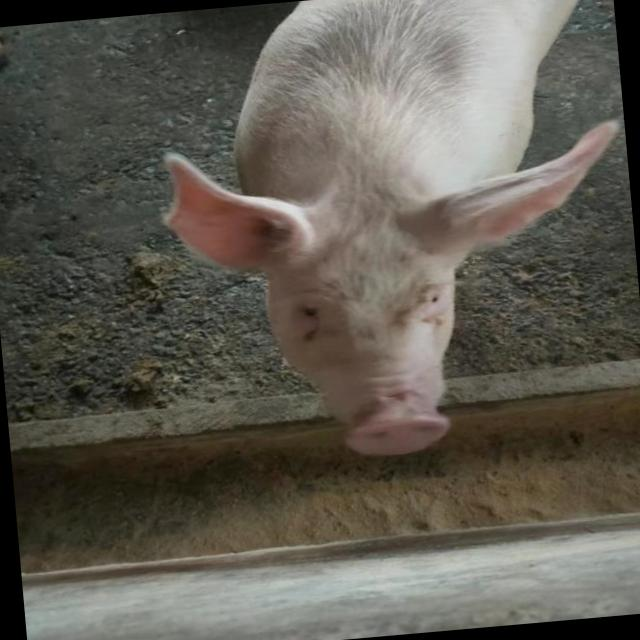pig: (165, 0, 617, 455)
